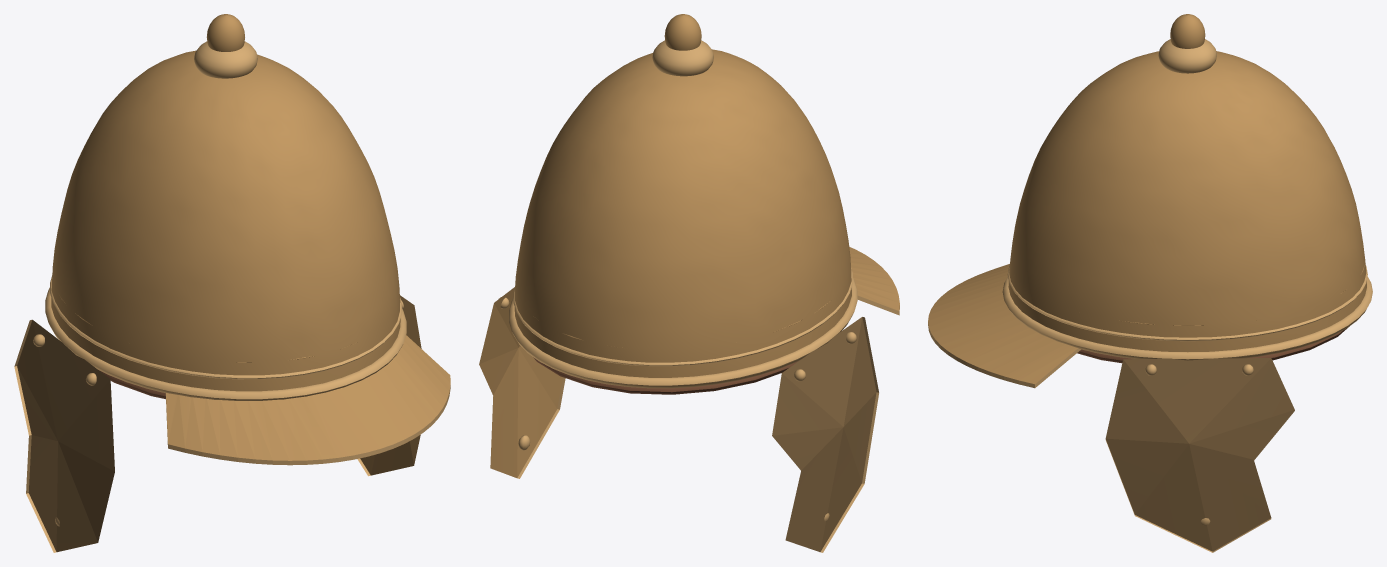
File: helmet_lod1.glb
3 views of the same model, side by side, from view 1: azimuth 30°, elevation 25°; view 2: azimuth 150°, elevation 25°; view 3: azimuth 270°, elevation 25° (orthographic). The views are drawn at different scales.
Parts seen in each view (by area): view 1: Viva_Montefortino_study; view 2: Viva_Montefortino_study; view 3: Viva_Montefortino_study.
Boxes of the visible parts, x1,y1,x2,y2 form: Viva_Montefortino_study: [14, 14, 450, 552]; Viva_Montefortino_study: [479, 14, 899, 552]; Viva_Montefortino_study: [928, 14, 1372, 552].
Size of the model in its own units: 0.2453 by 0.351 by 0.3032.
